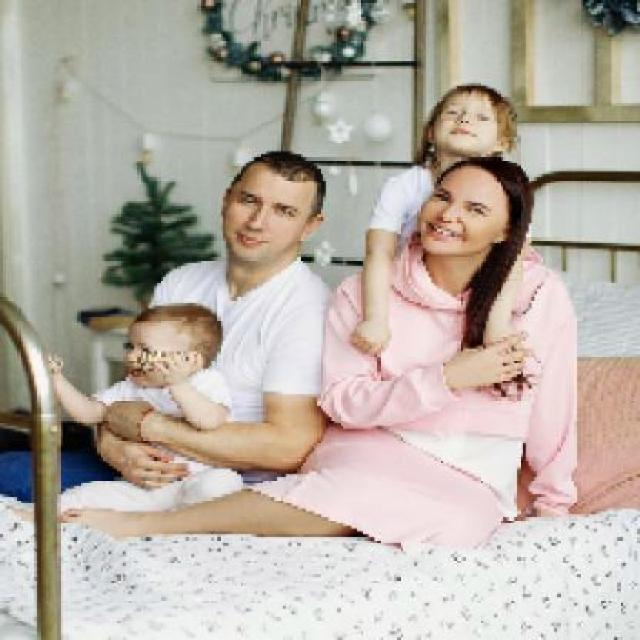child: (347, 83, 519, 357), (46, 299, 246, 512)
